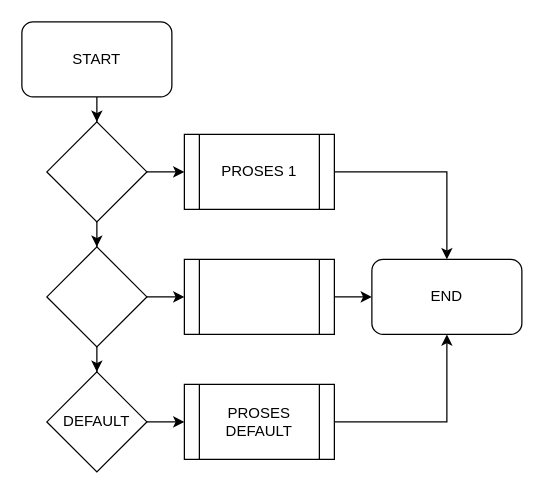
The diagram is 544 pixels wide and 494 high, and some of its shapes have lost their labels. Each missing label, with the box of its shape:
CASE 1: (46, 121, 147, 222)
CASE 2: (46, 246, 147, 347)
PROSES 2: (183, 258, 334, 334)
